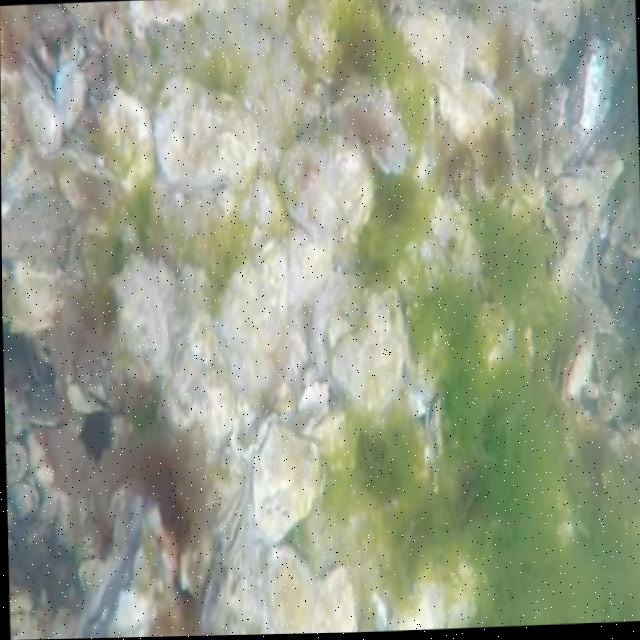Oyster-Closed: (243, 412, 324, 543), (308, 271, 363, 381), (212, 485, 248, 560), (203, 557, 234, 629), (20, 49, 55, 109), (562, 336, 592, 399), (603, 195, 632, 247), (428, 391, 443, 457)
Oyster-Indeterminate: (152, 77, 260, 188), (222, 240, 289, 413), (331, 285, 408, 416), (165, 311, 233, 446), (440, 85, 514, 204), (109, 255, 178, 378), (278, 139, 340, 237), (402, 6, 464, 94), (99, 93, 154, 191), (323, 136, 374, 237), (571, 40, 612, 153), (268, 547, 317, 634), (290, 227, 331, 304), (316, 569, 356, 633), (182, 513, 211, 600), (23, 91, 60, 154), (56, 60, 85, 127), (556, 228, 588, 288), (256, 176, 286, 233), (26, 383, 66, 425), (542, 85, 566, 129), (5, 444, 28, 484), (34, 463, 54, 487)
Oyster-Open: (70, 492, 160, 639), (476, 303, 516, 369), (371, 129, 406, 177), (12, 478, 39, 519)
